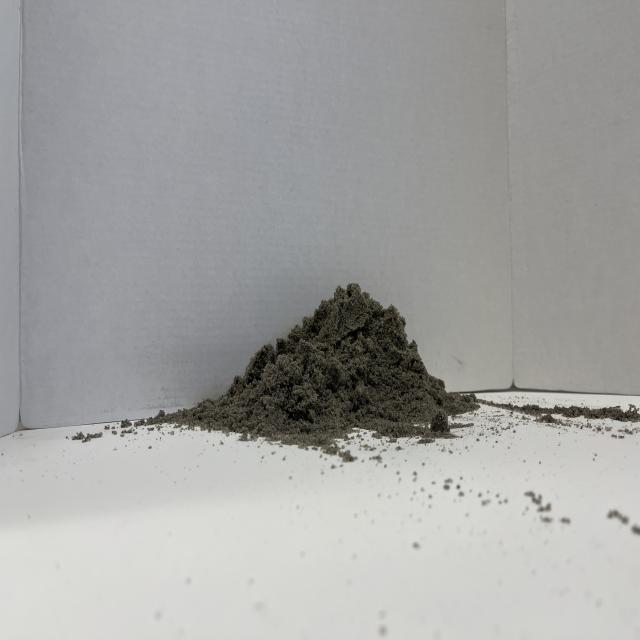sand: (179, 266, 501, 462)
